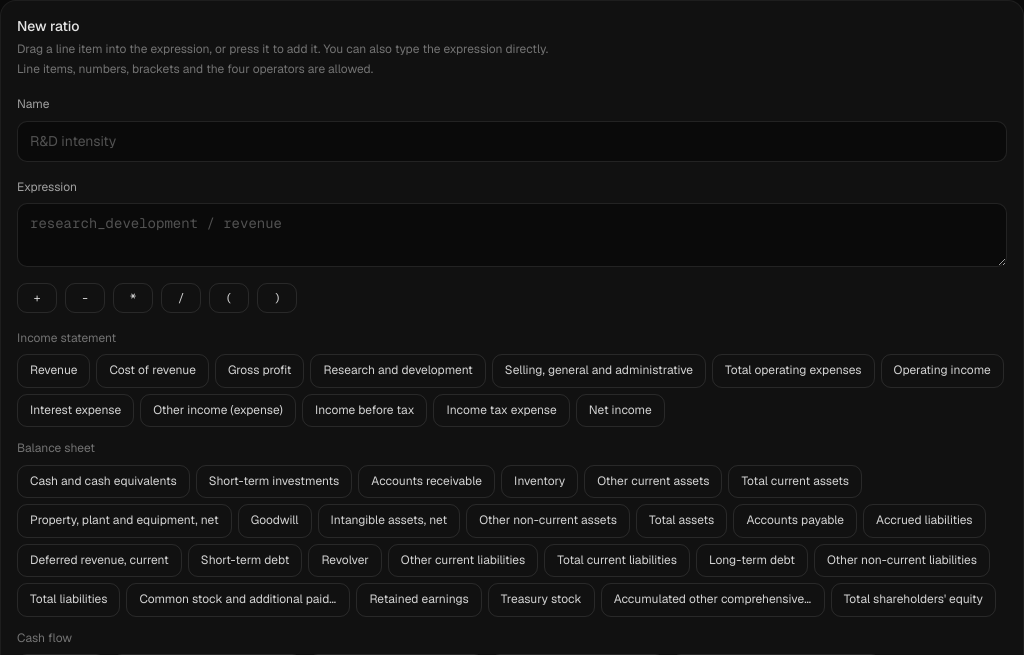
Test: validation › reports where a malformed expression went wrong
The image size is (1024, 655).
Type "revenue / " into the text box labelled "Expression". click: (512, 235)
box: [17,203,1007,266]
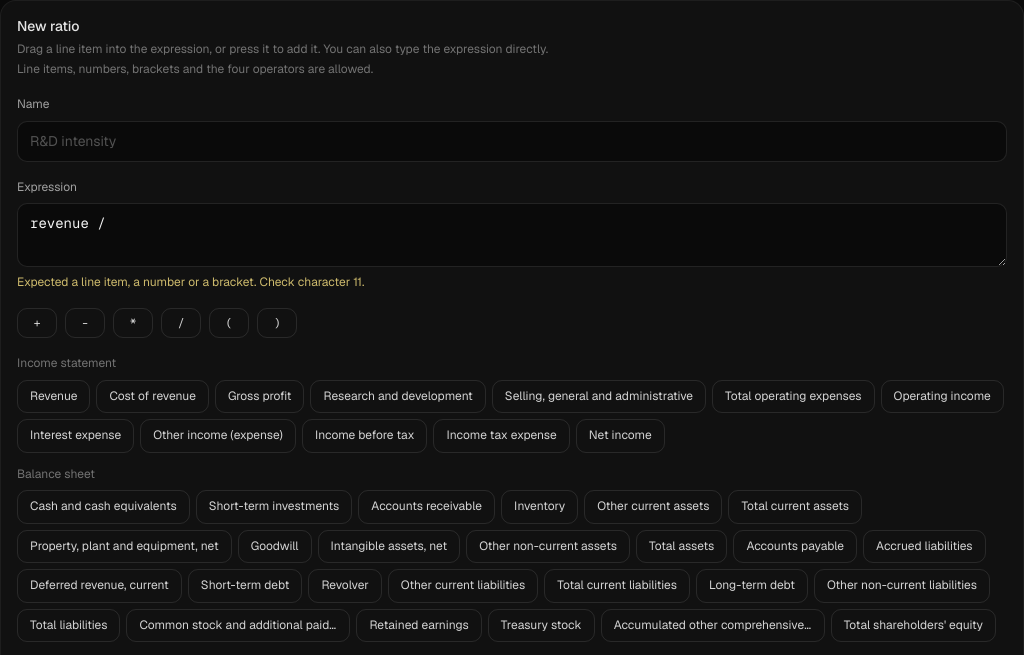
Expected: the text "character 11" is shown, [17,274,364,290]
